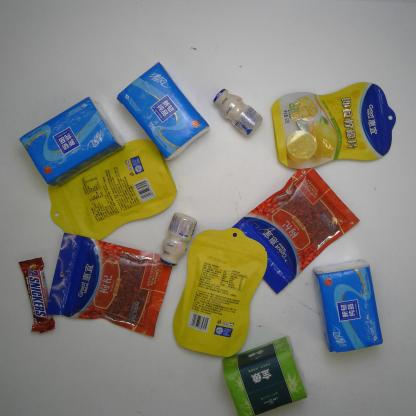Chocolate: (17, 256, 55, 336)
Dried Fruit: (231, 161, 363, 298), (171, 224, 272, 360), (46, 138, 178, 242), (46, 231, 174, 338), (268, 81, 398, 170)
Milk: (212, 88, 266, 138), (159, 209, 200, 266)
Tissue: (16, 96, 124, 190), (115, 61, 212, 162), (311, 256, 385, 356), (222, 334, 309, 416)
